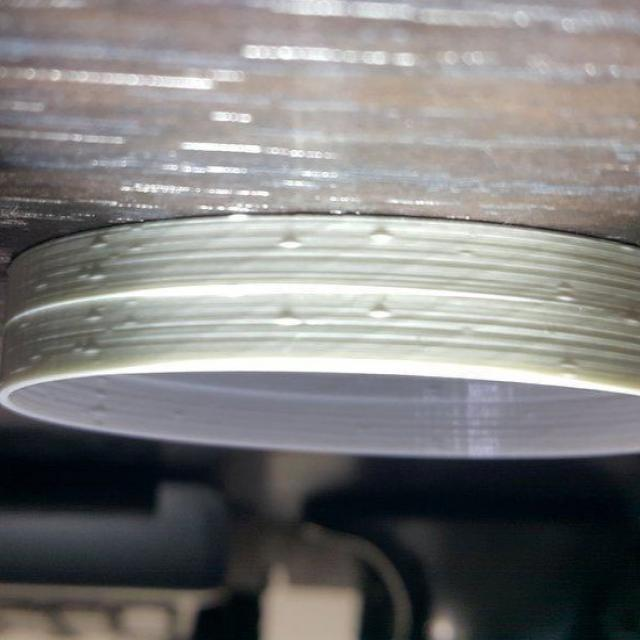blobs: (366, 227, 396, 250), (276, 235, 306, 258), (276, 308, 304, 330), (83, 308, 107, 332), (370, 302, 396, 322), (82, 336, 105, 358), (556, 284, 578, 304), (28, 278, 50, 298), (88, 402, 111, 421), (86, 269, 108, 287), (89, 238, 109, 256), (91, 384, 111, 402), (118, 314, 140, 330), (626, 309, 640, 329)
